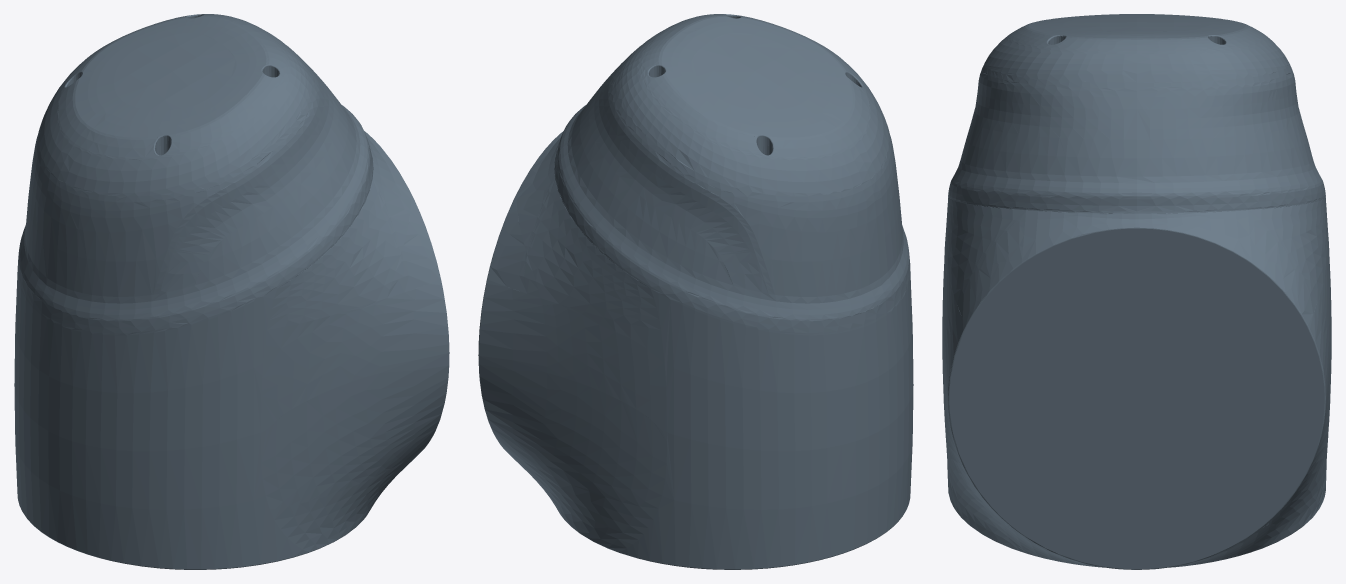
3 renders of one model, left to right at view 1: azimuth 30°, elevation 25°; view 2: azimuth 150°, elevation 25°; view 3: azimuth 270°, elevation 25°, orthographic. The views are drawn at different scales.
Visible parts, largest first — view 1: A0912_2_1; view 2: A0912_2_1; view 3: A0912_2_1.
Boxes of the visible parts, <box> form: A0912_2_1: <box>14,14,449,569</box>; A0912_2_1: <box>478,14,913,569</box>; A0912_2_1: <box>942,14,1331,569</box>.
Size of the model in its own units: 163 by 161 by 217.
